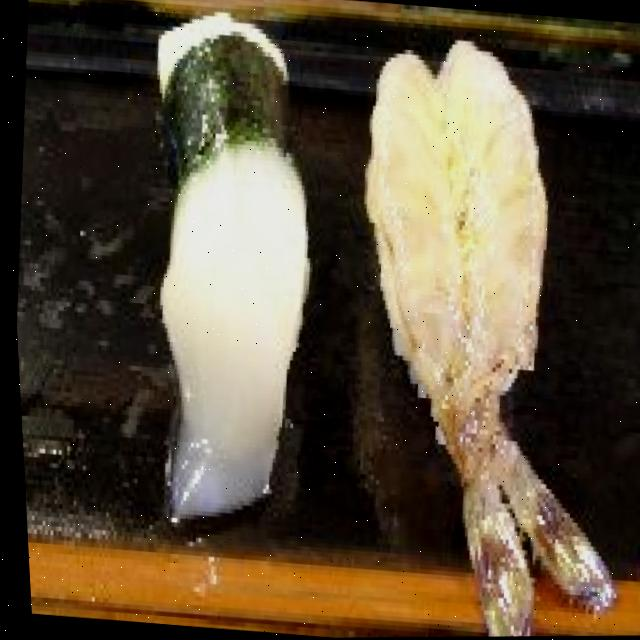寿司卷物: (69, 0, 637, 640)
